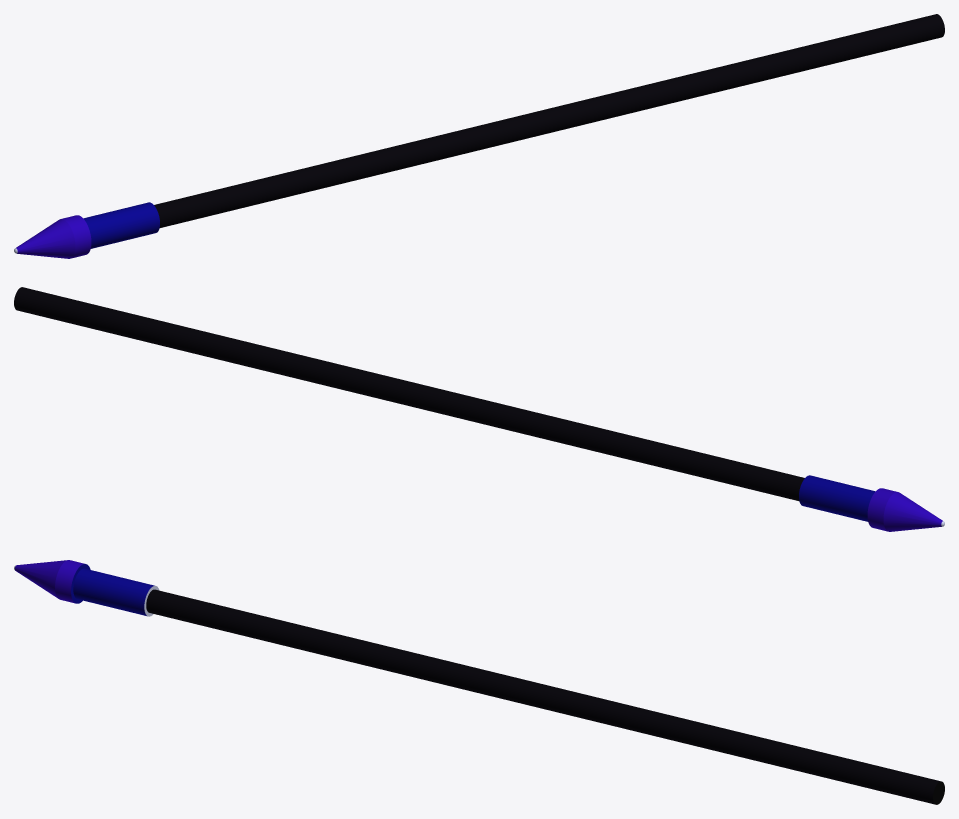
Rendered from mine_ancre.fbx.
3 views of the same model, one above another, from view 1: azimuth 30°, elevation 25°; view 2: azimuth 150°, elevation 25°; view 3: azimuth 330°, elevation 25° (orthographic).
Parts seen in each view (by area): view 1: Part 3, Part 4, Part 6; view 2: Part 3, Part 4, Part 6; view 3: Part 3, Part 4, Part 6.
Part boxes in pixels (<box>): Part 3: <box>154,14,944,227</box>; Part 4: <box>83,202,159,248</box>; Part 6: <box>16,215,91,258</box>; Part 3: <box>14,287,804,500</box>; Part 4: <box>799,475,875,521</box>; Part 6: <box>867,488,942,531</box>; Part 3: <box>146,589,940,804</box>; Part 4: <box>73,568,154,616</box>; Part 6: <box>15,560,84,603</box>.
Bounding box in the file's own units: 13.21 × 0.5055 × 0.5055.
